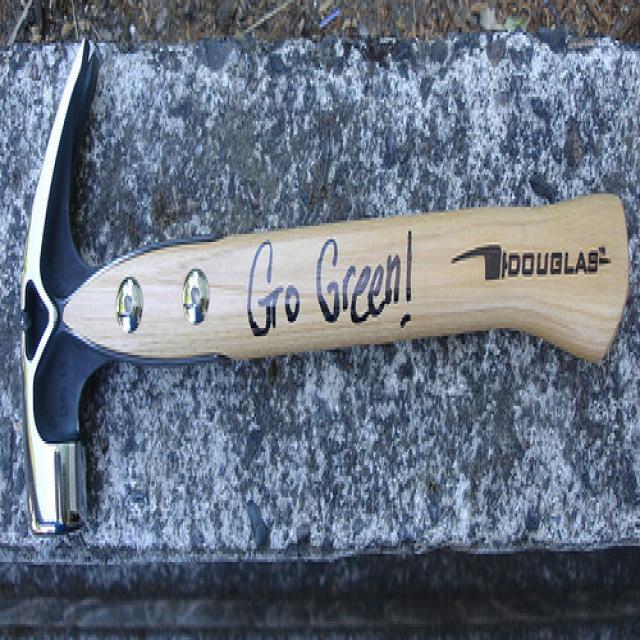hammer: (13, 21, 638, 569)
